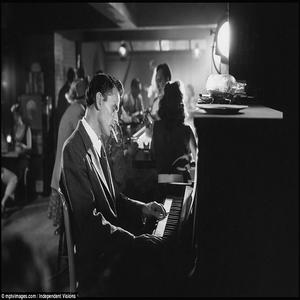cigarette: (109, 124, 119, 142)
